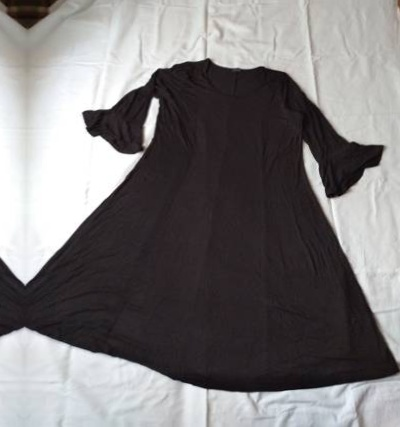Dress: (34, 55, 400, 393), (0, 51, 17, 390)
